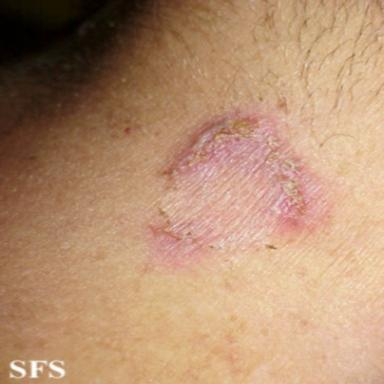Hailey-Hailey-Disease: (147, 104, 330, 265)
